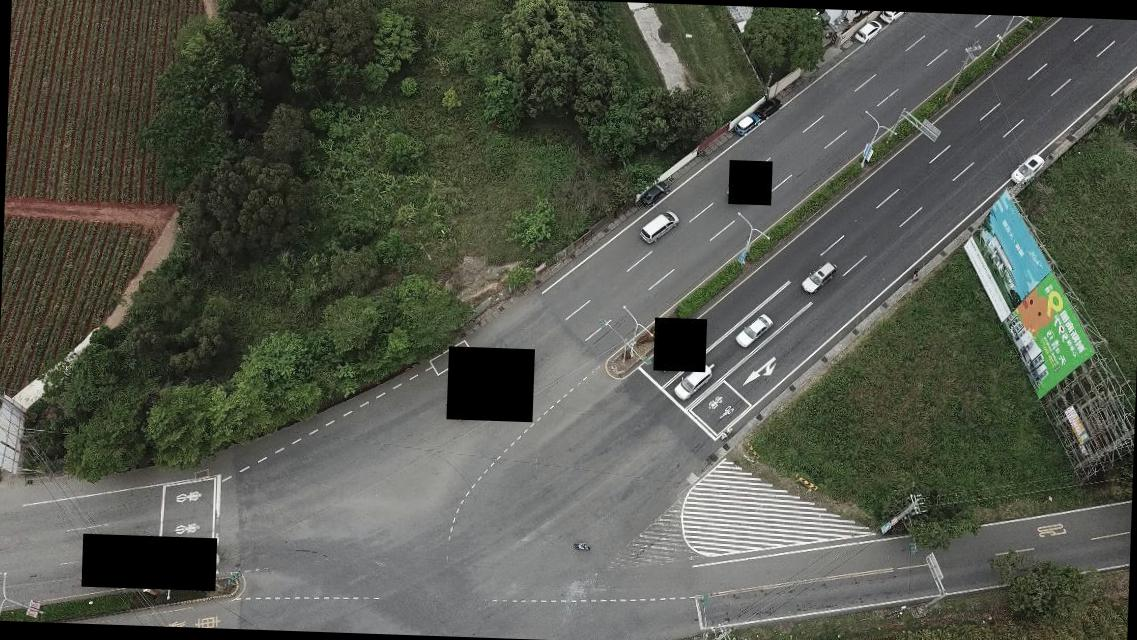vehicle: (639, 208, 679, 246), (734, 312, 773, 350), (675, 362, 712, 400), (800, 259, 835, 293), (1008, 154, 1045, 186), (640, 178, 668, 208), (854, 18, 880, 44), (735, 110, 760, 136), (757, 95, 781, 118), (878, 12, 902, 24)
